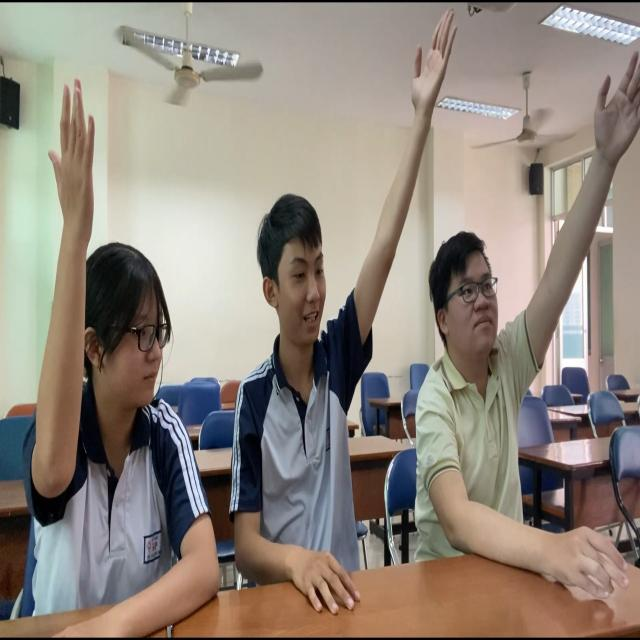raise_hand: (1, 65, 221, 636), (430, 38, 640, 628)
